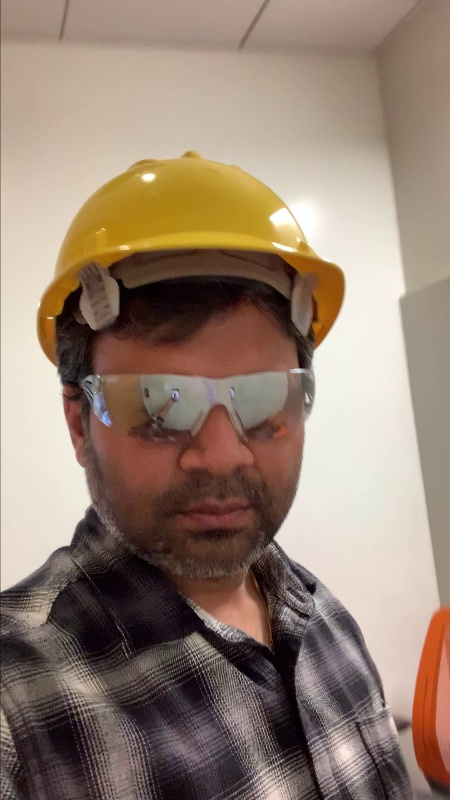glasses: (82, 367, 316, 440)
helmet: (41, 152, 342, 280)
